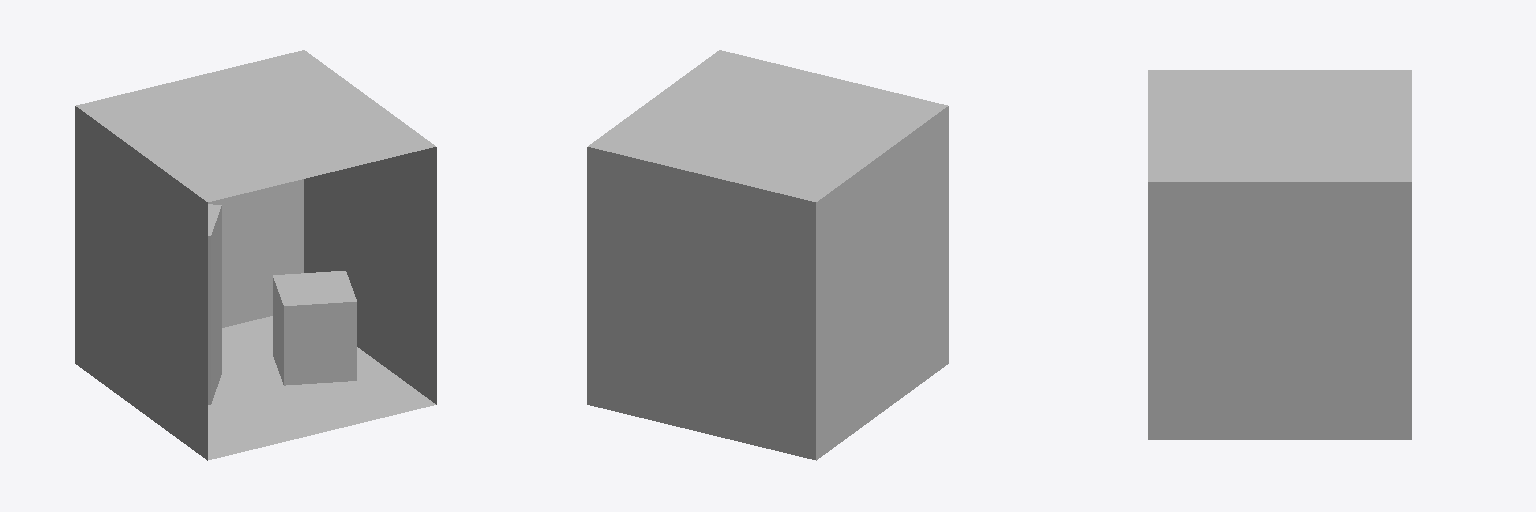
The model's file is box_kevin.obj.
3 views of the same model, side by side, from view 1: azimuth 30°, elevation 25°; view 2: azimuth 150°, elevation 25°; view 3: azimuth 270°, elevation 25° (orthographic).
Visible parts, largest first — view 1: Cube_Cube.003, Cube.001, Cube.002; view 2: Cube_Cube.003; view 3: Cube_Cube.003.
Boxes of the visible parts, x1,y1,x2,y2 form: Cube_Cube.003: [75, 50, 436, 460]; Cube.001: [273, 271, 356, 385]; Cube.002: [208, 204, 221, 404]; Cube_Cube.003: [587, 50, 948, 460]; Cube_Cube.003: [1148, 70, 1411, 439].
Size of the model in its own units: 5.92 by 6.42 by 5.92.